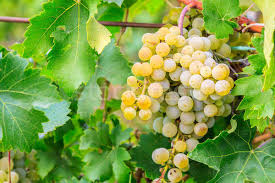grapes: (124, 21, 236, 180)
